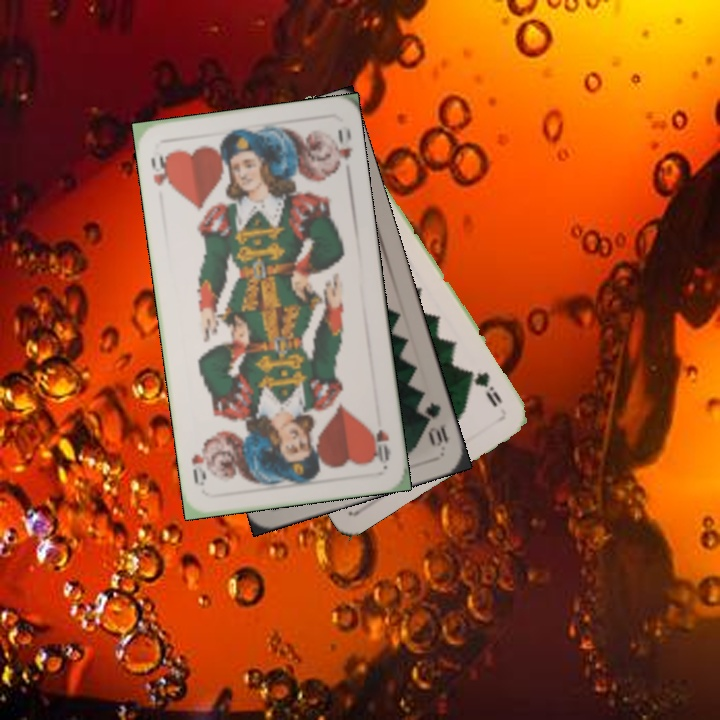G10: (417, 398, 451, 449)
G9: (466, 366, 505, 410)
HO: (146, 149, 175, 193), (367, 424, 393, 467)
